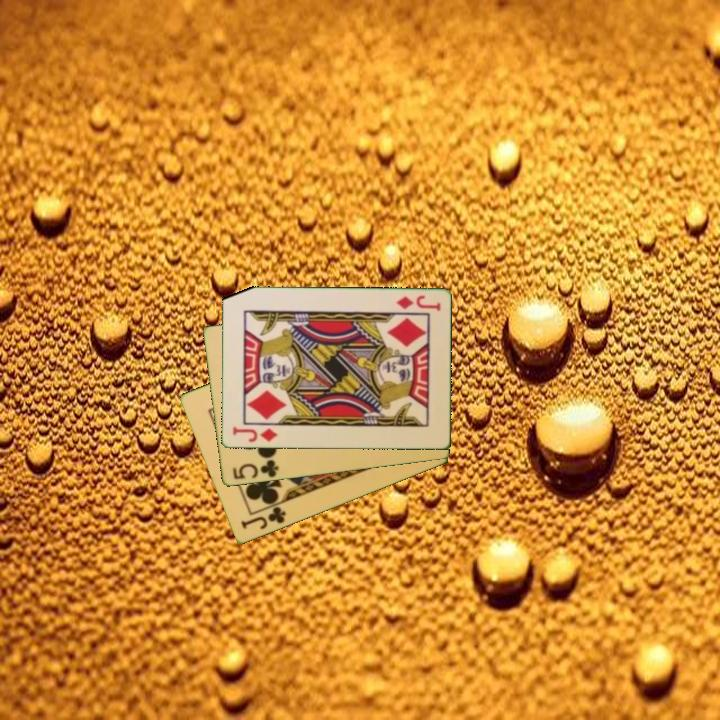5c: (229, 456, 281, 482)
Jc: (237, 503, 289, 533)
Jd: (229, 423, 279, 445), (393, 292, 443, 314)
